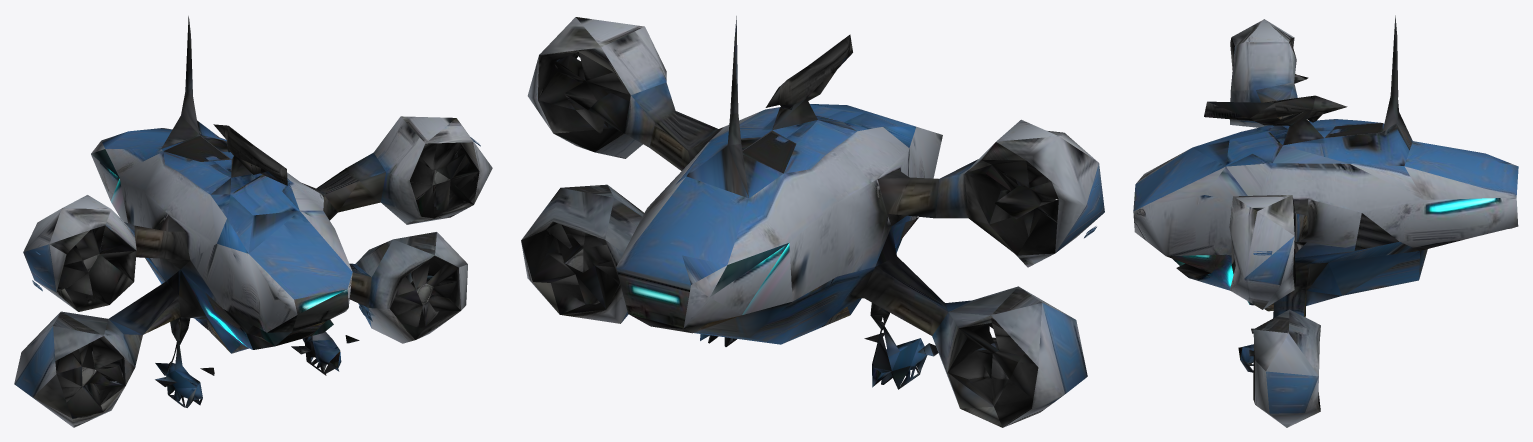
The model's file is unit_skyhook.glb.
3 renders of one model, left to right at view 1: azimuth 30°, elevation 25°; view 2: azimuth 150°, elevation 25°; view 3: azimuth 270°, elevation 25°, orthographic. The views are drawn at different scales.
Parts seen in each view (by area): view 1: unit_skyhook; view 2: unit_skyhook; view 3: unit_skyhook.
Part boxes in pixels (bbox=[...]): unit_skyhook: bbox=[14, 16, 492, 427]; unit_skyhook: bbox=[521, 16, 1104, 427]; unit_skyhook: bbox=[1133, 15, 1518, 427].
Bounding box in the file's own units: 1.45 × 1 × 1.08.
Materials: 1 (1 with a texture image).
